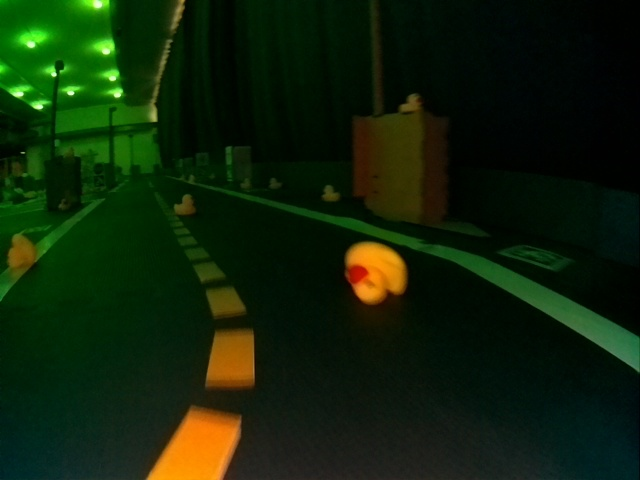Duckie: (344, 243, 407, 302), (7, 234, 36, 268), (174, 194, 196, 214), (405, 94, 421, 110), (323, 185, 338, 200), (273, 178, 282, 185)
QR code: (501, 243, 571, 272)
